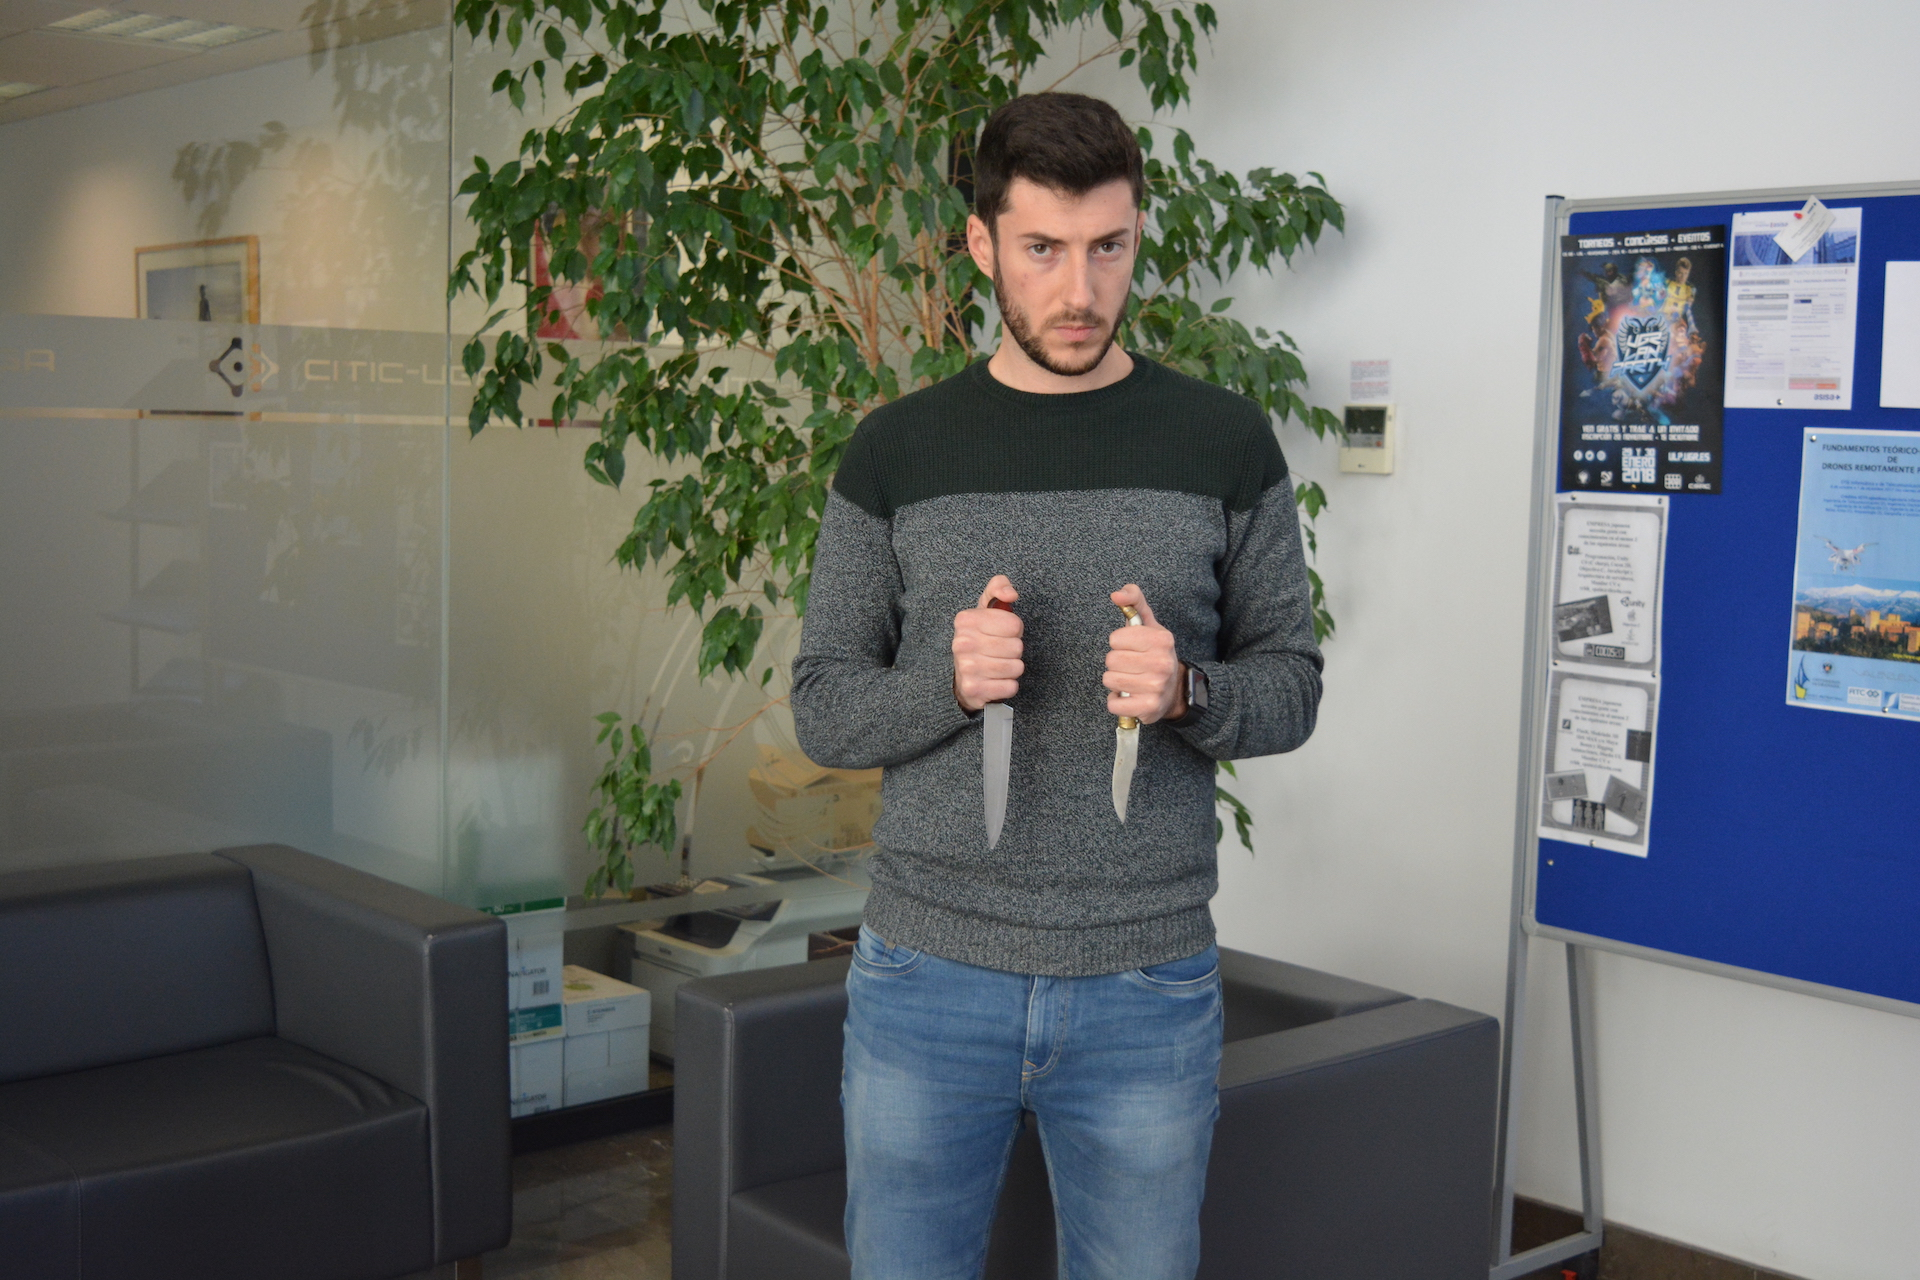knife: (974, 567, 1031, 861), (1100, 577, 1150, 836)
